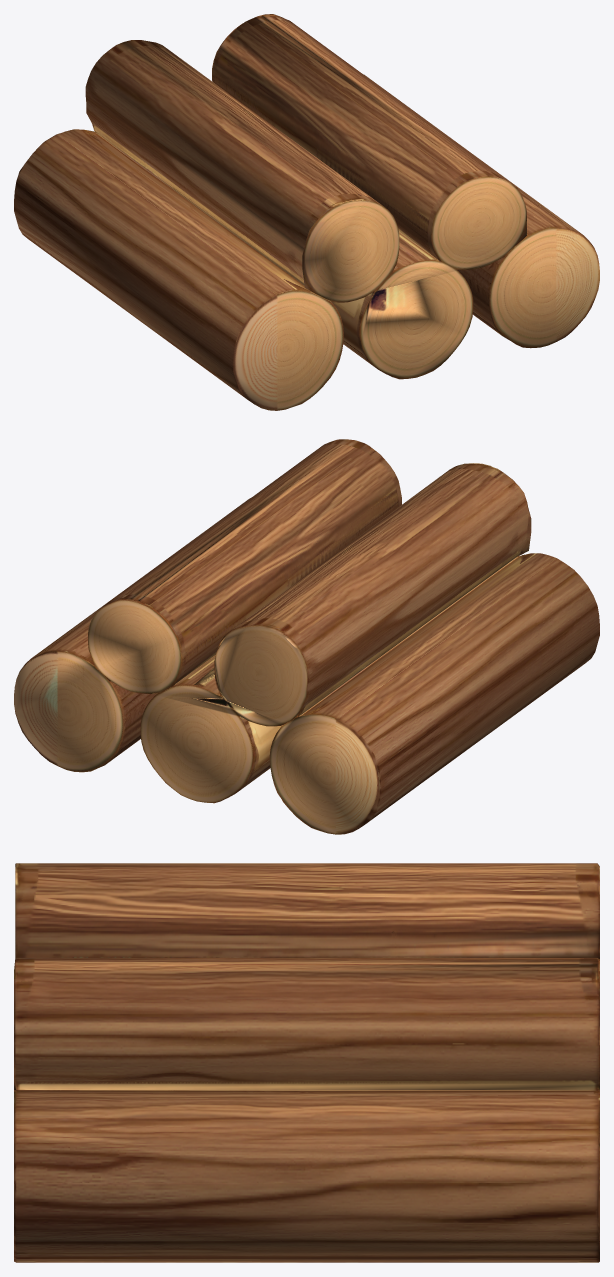
File: Meshy_AI_madera_apilada_0504094725_texture.fbx
3 views of the same model, one above another, from view 1: azimuth 30°, elevation 25°; view 2: azimuth 150°, elevation 25°; view 3: azimuth 270°, elevation 25° (orthographic). The views are drawn at different scales.
Visible parts, largest first — view 1: Mesh_0; view 2: Mesh_0; view 3: Mesh_0.
Part boxes in pixels (x1,y1,x2,y2): Mesh_0: (14,14,599,410); Mesh_0: (14,439,599,834); Mesh_0: (14,863,599,1262).
Size of the model in its own units: 183 by 91.98 by 190.
Materials: 1 (1 with a texture image).
